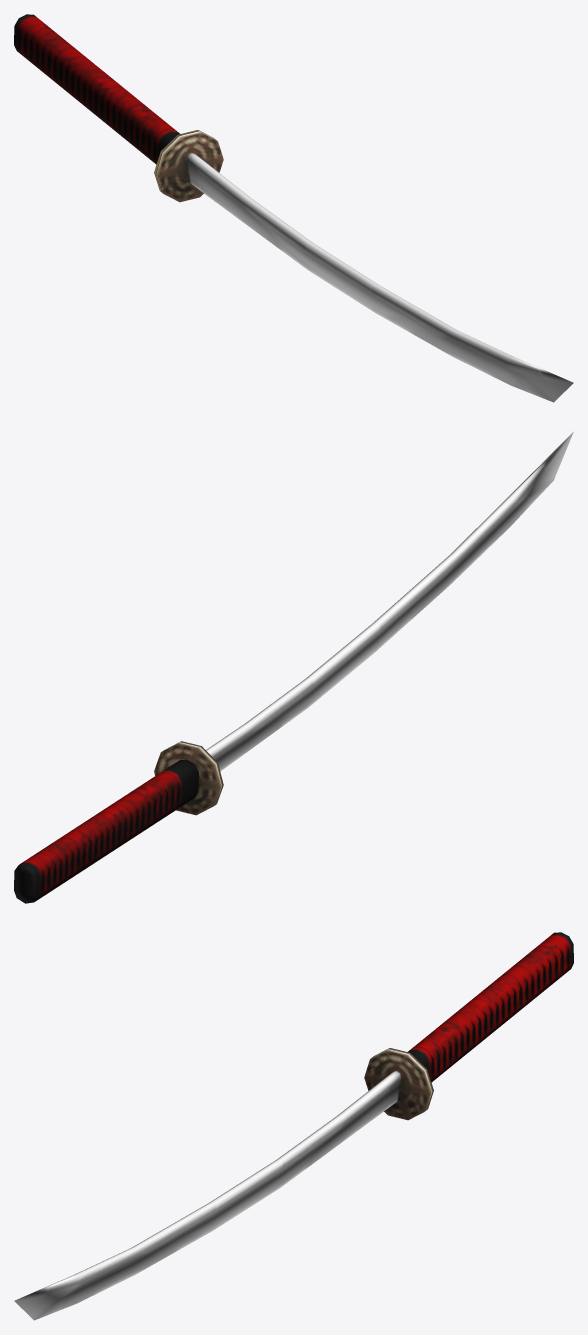
File: SM_Katana.fbx
3 views of the same model, one above another, from view 1: azimuth 30°, elevation 25°; view 2: azimuth 150°, elevation 25°; view 3: azimuth 330°, elevation 25° (orthographic).
Visible parts, largest first — view 1: L_Katana_02; view 2: L_Katana_02; view 3: L_Katana_02.
Part boxes in pixels (bbox=[...]): L_Katana_02: bbox=[14, 14, 573, 402]; L_Katana_02: bbox=[14, 431, 573, 903]; L_Katana_02: bbox=[14, 932, 573, 1320].
Bounding box in the file's own units: 7.35 × 10.43 × 106.
